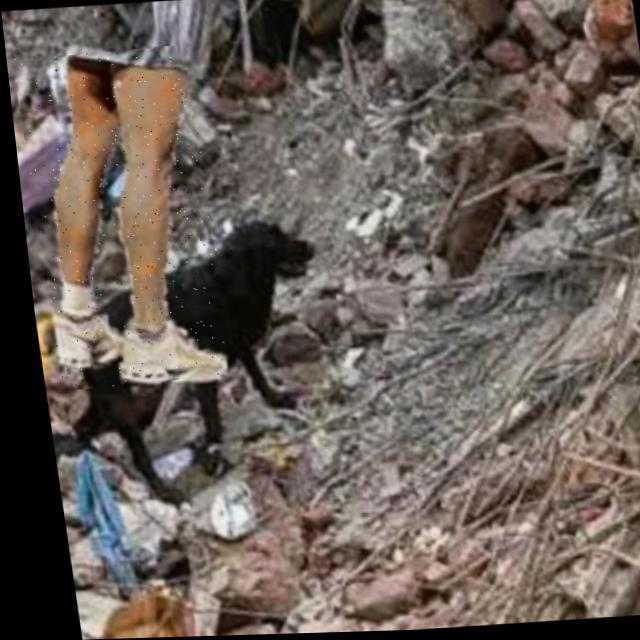Person in Rubble: (12, 47, 226, 389)
